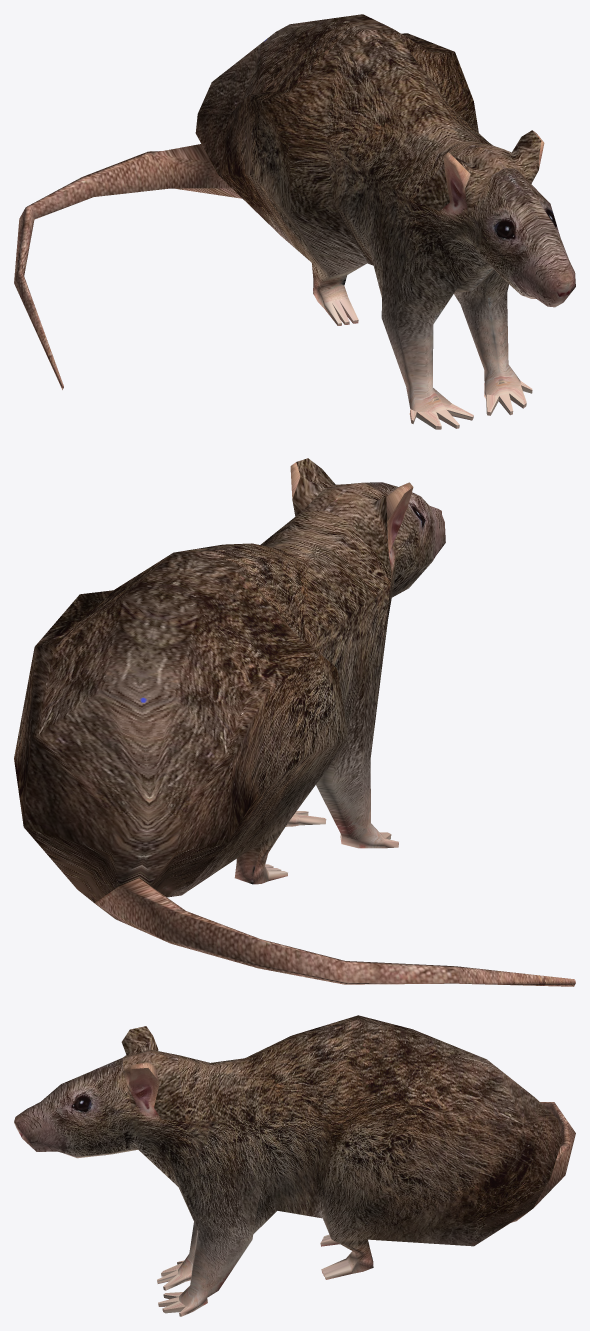
The model's file is rat.glb.
The picture shows the model from 3 angles, top to bottom: view 1: azimuth 30°, elevation 25°; view 2: azimuth 150°, elevation 25°; view 3: azimuth 270°, elevation 25°; orthographic projection. The views are drawn at different scales.
Visible parts, largest first — view 1: node_id13; view 2: node_id13; view 3: node_id13.
Part boxes in pixels (box(x1,y1,x2,y2)): node_id13: box(14, 14, 575, 429); node_id13: box(14, 458, 575, 986); node_id13: box(14, 1015, 575, 1316).
Bounding box in the file's own units: 0.5106 × 0.373 × 0.6996.
Materials: 1 (1 with a texture image).
